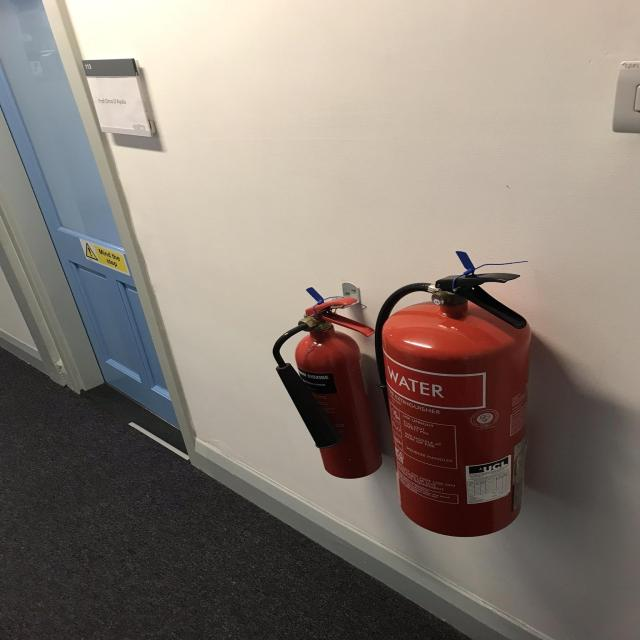fire_extinguisher: (371, 270, 538, 538), (268, 294, 382, 480)
